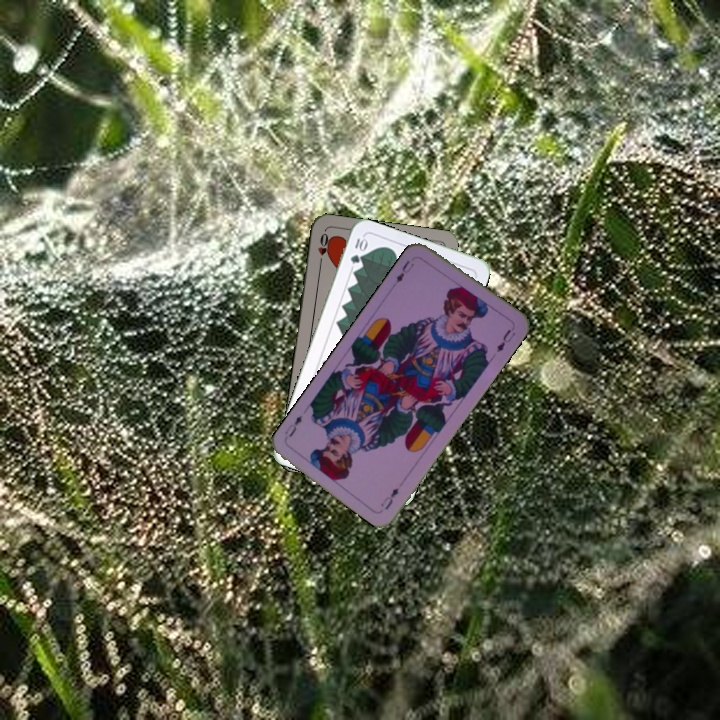EU: (376, 483, 402, 512), (392, 256, 417, 285)
G10: (346, 234, 369, 266)
HO: (314, 229, 332, 269)
